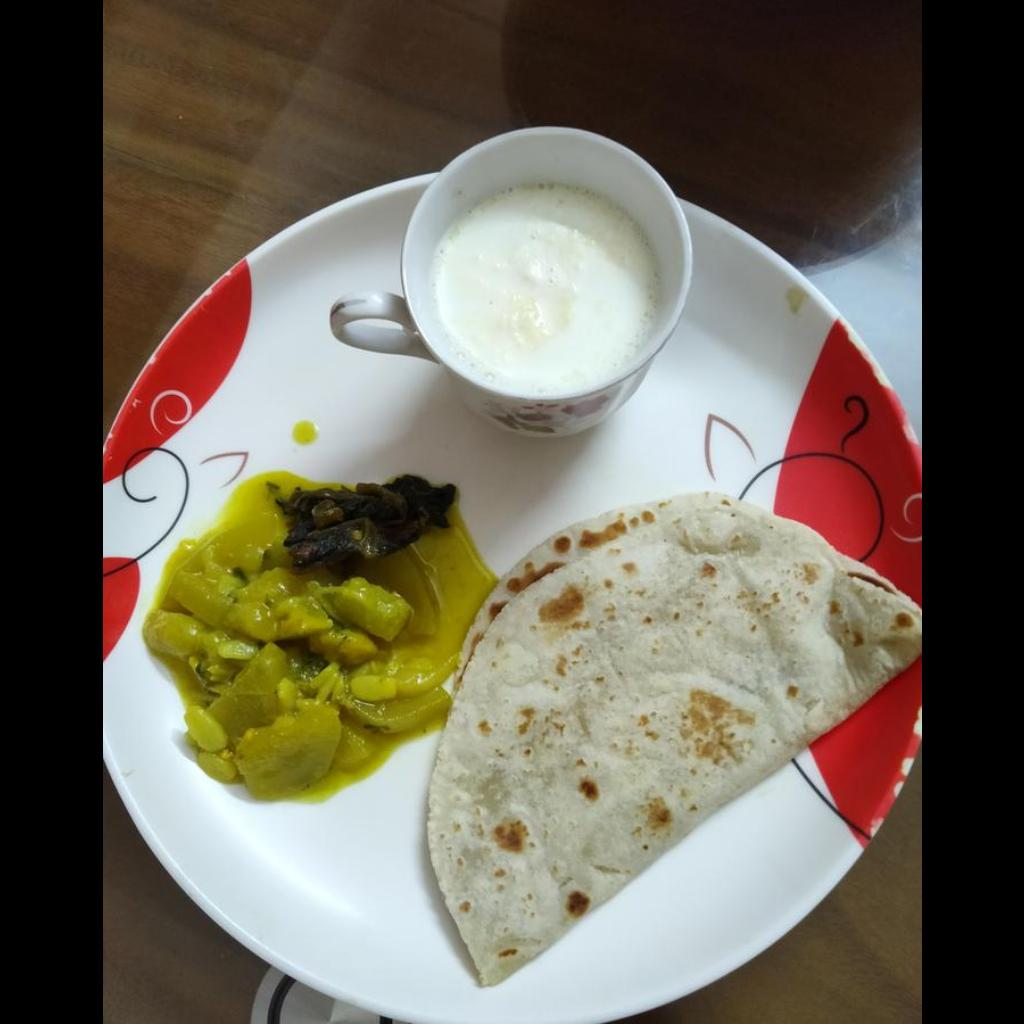milk: (427, 184, 653, 396)
ruti: (422, 494, 920, 992)
vegetable: (147, 474, 485, 791)
